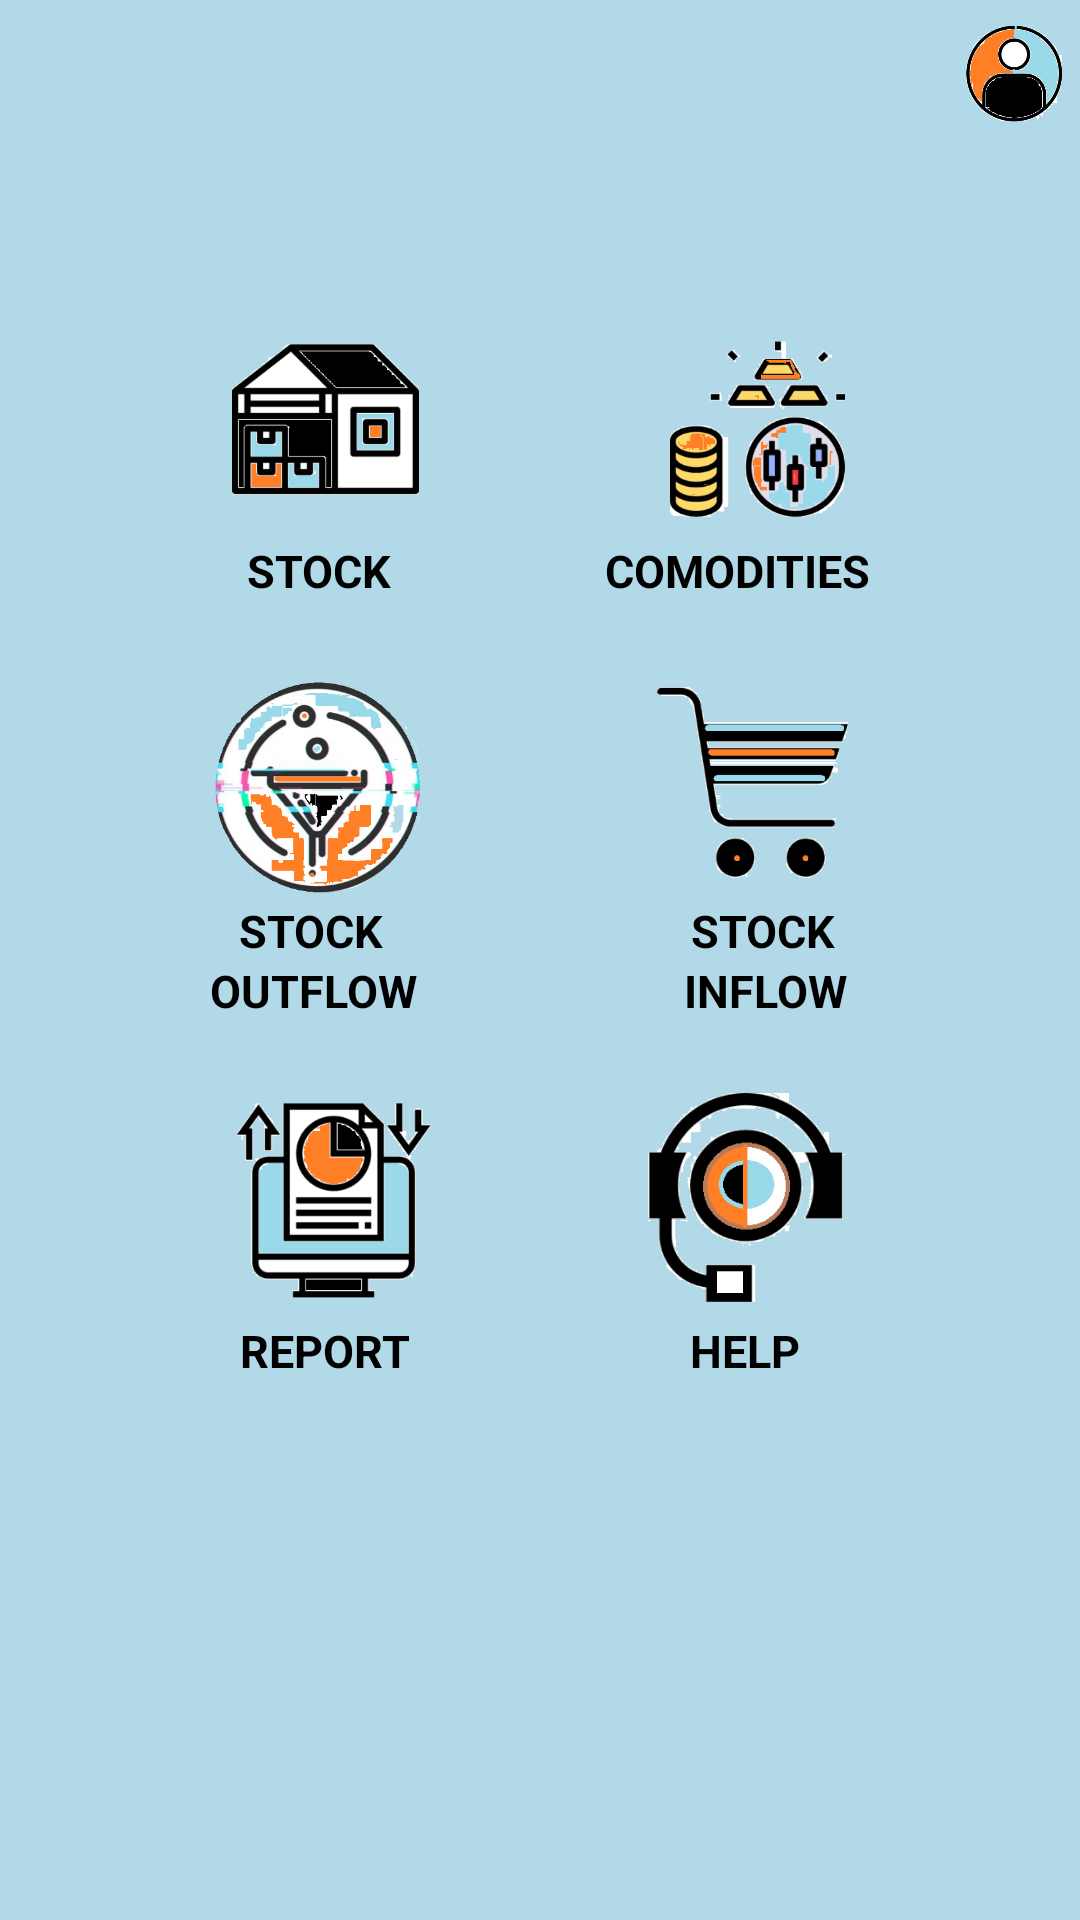

Icon click points for this 1080px×1920px phone screenshot, format (x,y):
login: (1014,74)
purcha: (752,782)
